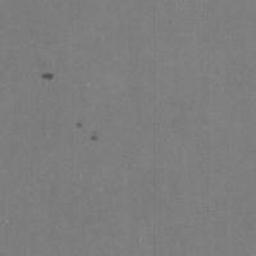Inclusion: (41, 72, 54, 80), (90, 131, 99, 141)
